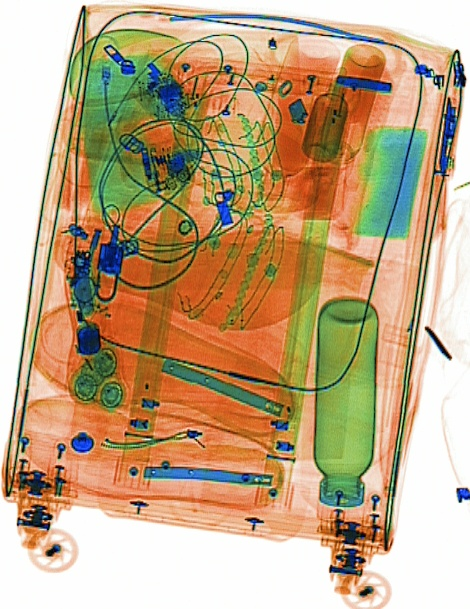pressure: (313, 41, 386, 186)
